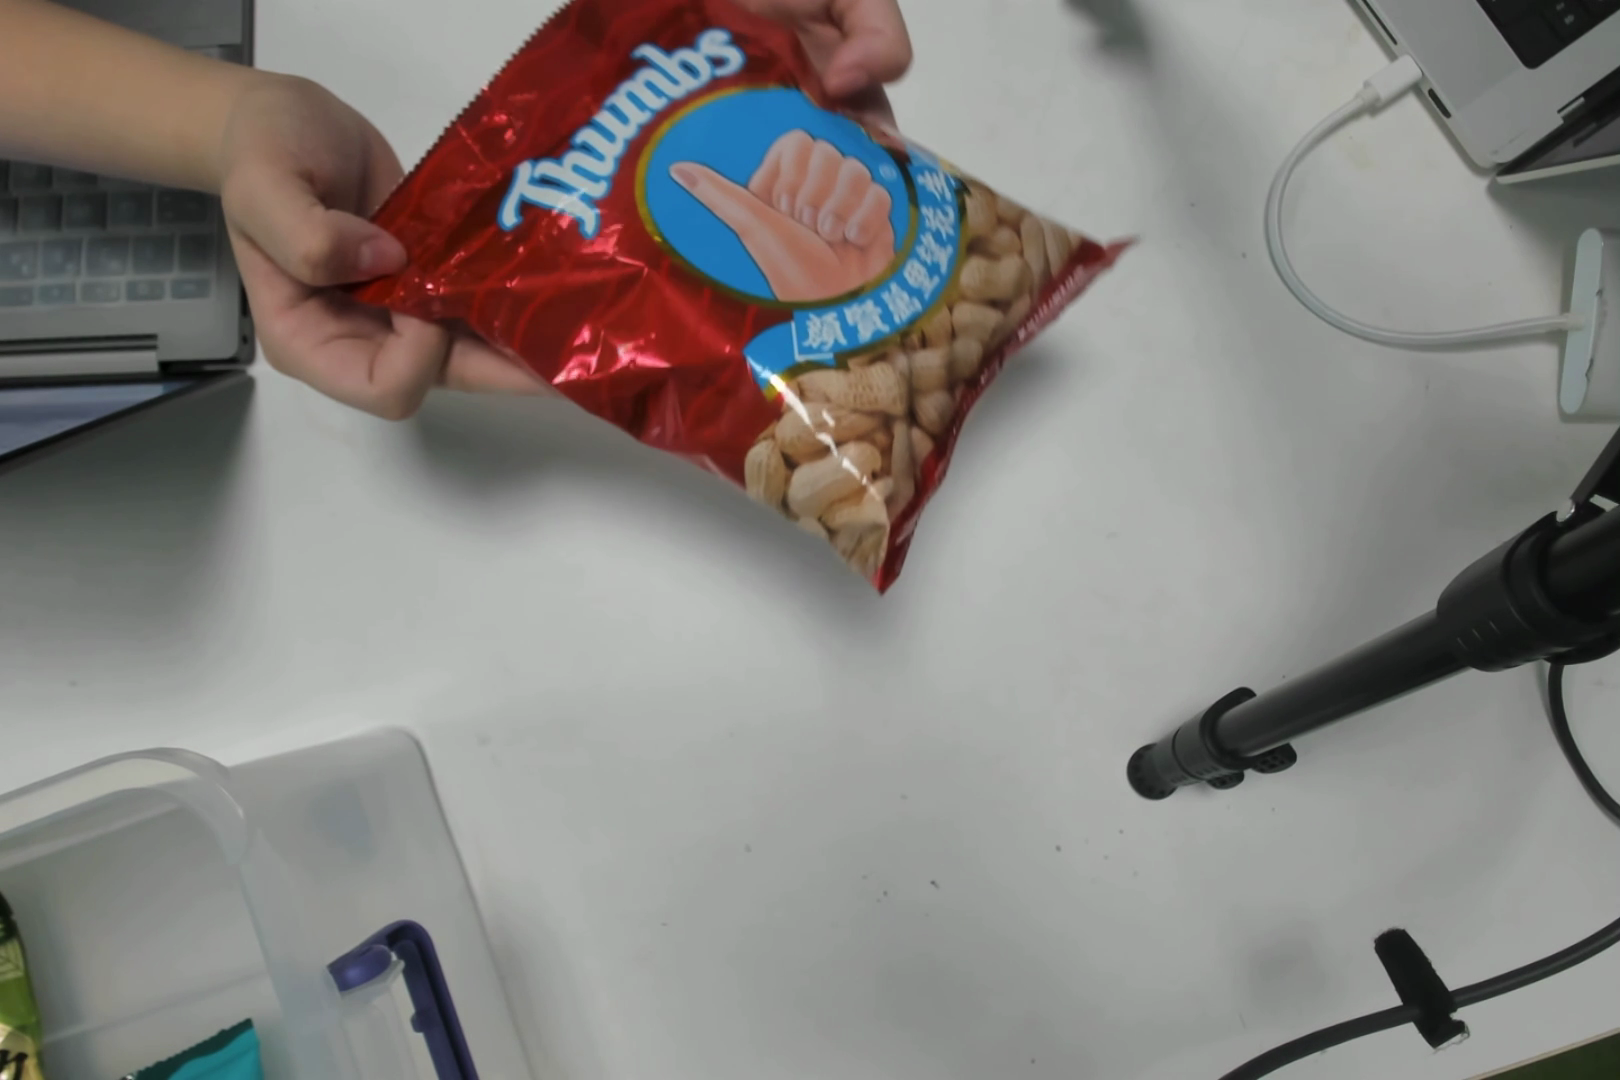Nuts_100-199g_Halal_NonHealthy: (532, 28, 1006, 553)
